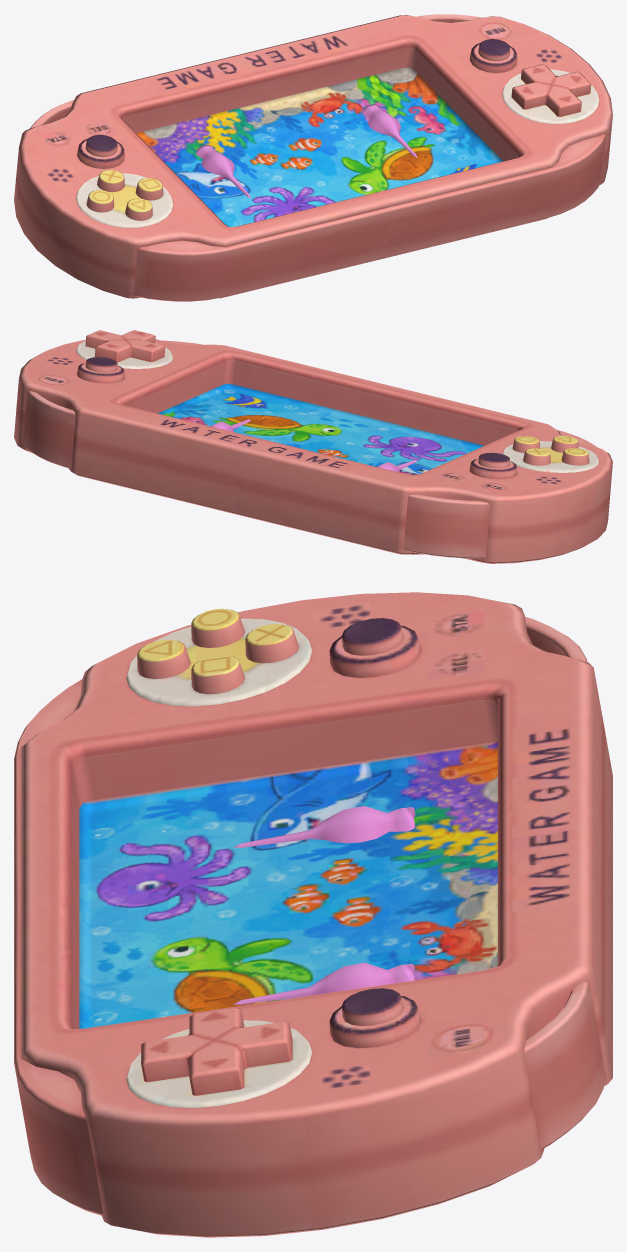
Rendered from ref_gtwatergame.glb.
3 renders of one model, top to bottom at view 1: azimuth 30°, elevation 25°; view 2: azimuth 150°, elevation 25°; view 3: azimuth 270°, elevation 25°, orthographic. The views are drawn at different scales.
Parts seen in each view (by area): view 1: ref_gtwatergame_part1, ref_gtwatergame_part2; view 2: ref_gtwatergame_part1, ref_gtwatergame_part2; view 3: ref_gtwatergame_part1, ref_gtwatergame_part2.
Part boxes in pixels (<box>): ref_gtwatergame_part1: <box>14,14,612,301</box>; ref_gtwatergame_part2: <box>196,104,417,198</box>; ref_gtwatergame_part1: <box>14,330,612,563</box>; ref_gtwatergame_part2: <box>210,419,417,472</box>; ref_gtwatergame_part1: <box>14,592,612,1237</box>; ref_gtwatergame_part2: <box>233,806,415,1004</box>.
Size of the model in its own units: 1 by 0.1851 by 0.4905.
3 materials, 3 textured.
